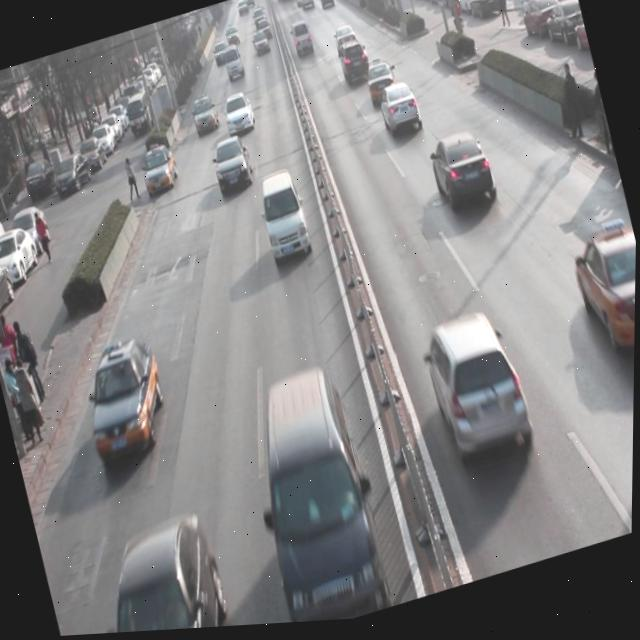car: (416, 304, 540, 478), (83, 518, 238, 636), (78, 338, 180, 467), (563, 223, 637, 373), (424, 128, 504, 228), (208, 136, 257, 200), (375, 80, 423, 143), (138, 141, 183, 199), (334, 37, 375, 94), (219, 89, 258, 143), (363, 55, 398, 110), (189, 97, 221, 137)
truck: (236, 366, 397, 629), (255, 170, 318, 272), (219, 45, 247, 85)
